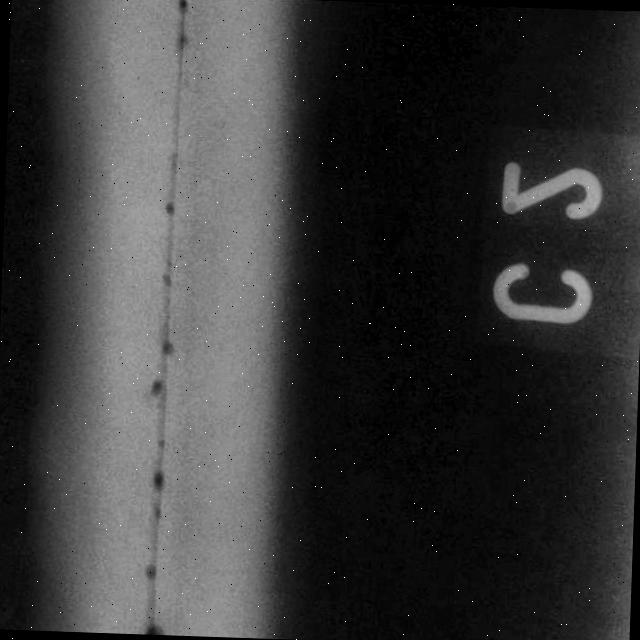LoP-LoF: (113, 0, 206, 635)
Pore: (140, 622, 165, 635)
